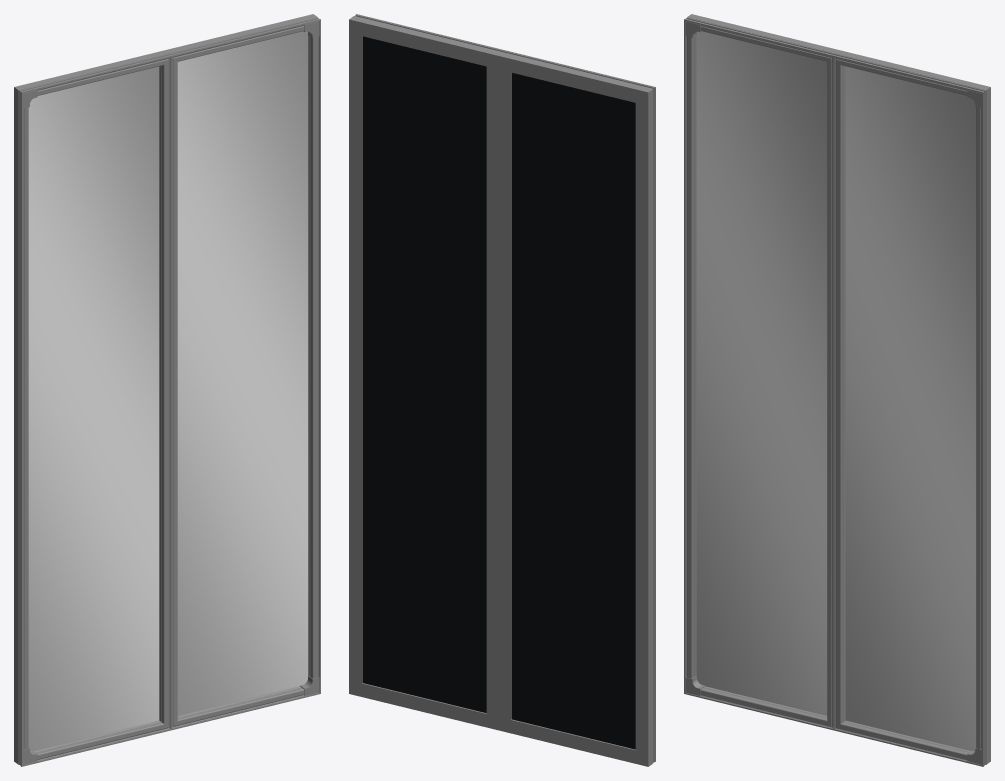
The picture shows the model from 3 angles, left to right: view 1: azimuth 30°, elevation 25°; view 2: azimuth 150°, elevation 25°; view 3: azimuth 330°, elevation 25°; orthographic projection.
Parts seen in each view (by area): view 1: Plane005, Plane006, Rectangle001, Rectangle004; view 2: Plane003, Plane002, Rectangle001; view 3: Plane006, Plane005, Rectangle001, Rectangle004.
Part boxes in pixels (x1,y1,x2,y2): Plane005: (177,31,308,715); Plane006: (28,66,159,751); Rectangle001: (14,14,320,766); Rectangle004: (23,21,319,764); Plane003: (511,73,635,749); Plane002: (362,36,486,712); Rectangle001: (349,14,655,766); Plane006: (696,31,827,715); Plane005: (845,66,976,751); Rectangle001: (684,14,990,766); Rectangle004: (685,21,981,764).
Size of the model in its own units: 697 by 1500 by 30.
Materials: 4 (2 with a texture image).
